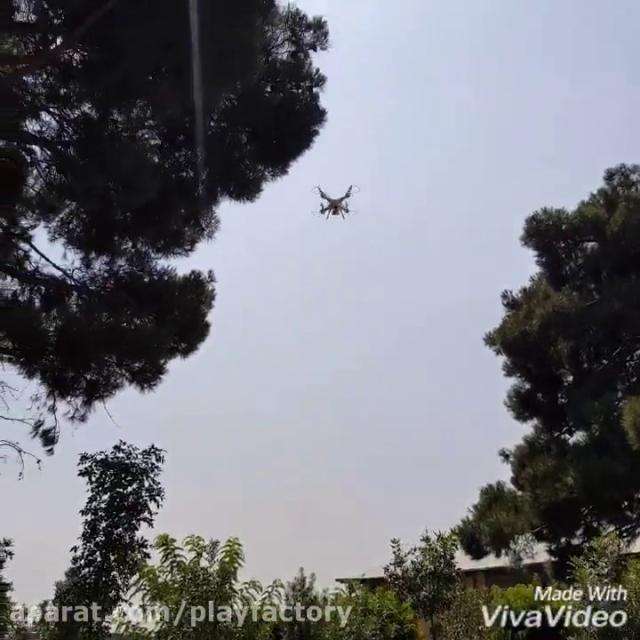drone: (307, 180, 363, 222)
